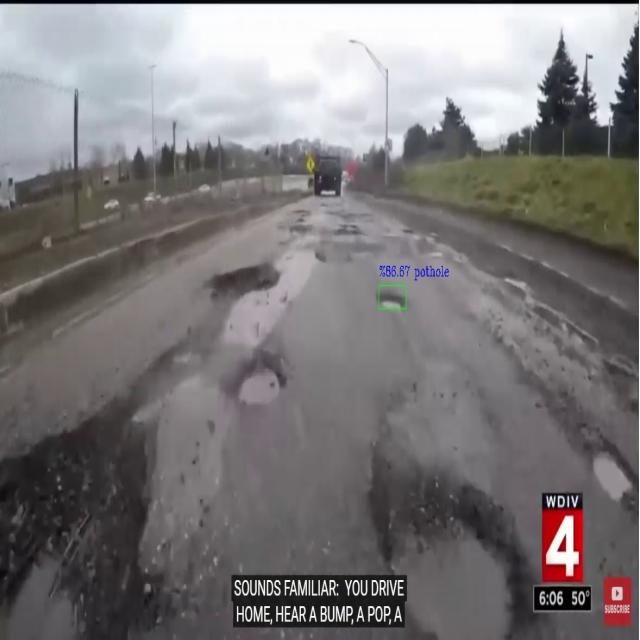pothole: (2, 407, 168, 640), (360, 443, 531, 640), (226, 343, 286, 410), (203, 262, 282, 298), (382, 285, 406, 309)
